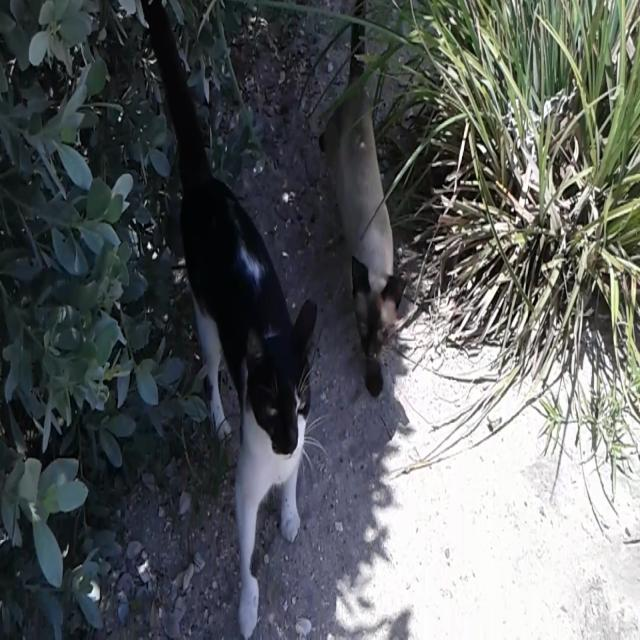cat: (148, 0, 316, 637), (324, 24, 405, 395)
